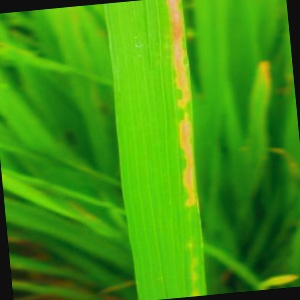Leaf_Blast: (115, 0, 196, 299)
